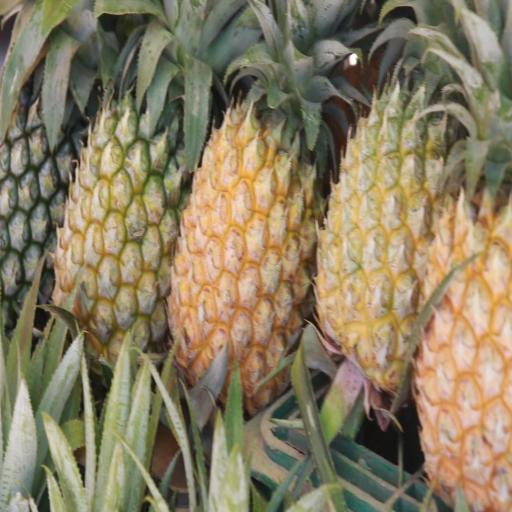------------------------------: (51, 2, 186, 372)
Pineapple - v8 v1: (309, 0, 476, 401), (164, 17, 318, 420), (411, 5, 512, 511)
